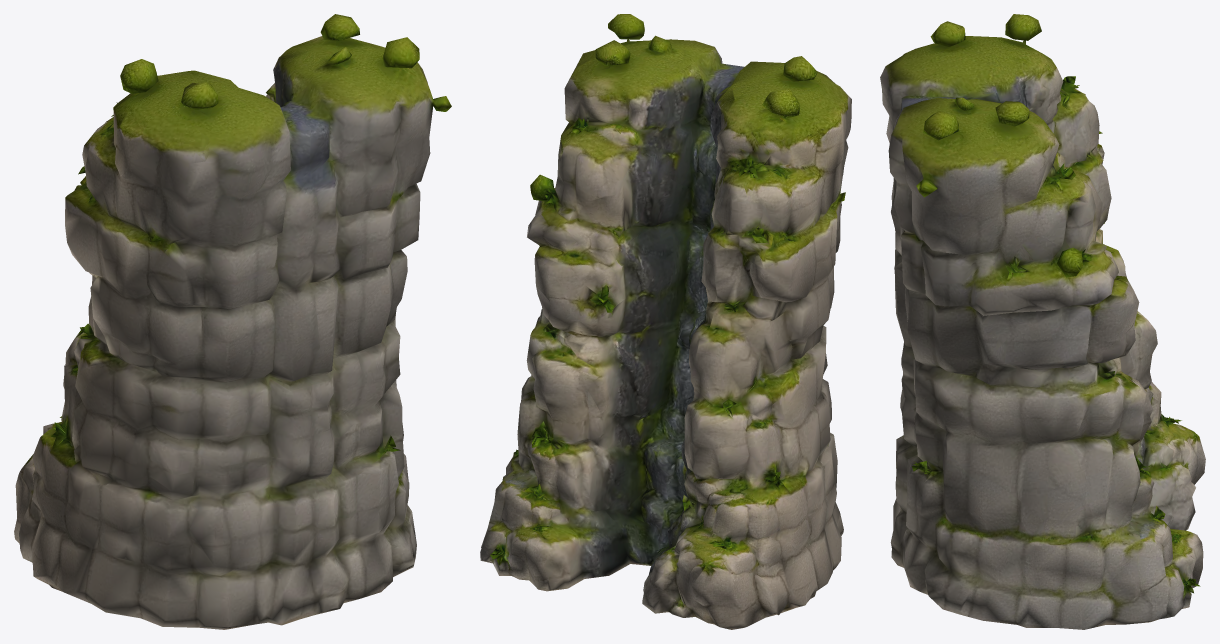
Rendered from env-fallcliff-bay.glb.
The picture shows the model from 3 angles, left to right: view 1: azimuth 30°, elevation 25°; view 2: azimuth 150°, elevation 25°; view 3: azimuth 270°, elevation 25°; orthographic projection. The views are drawn at different scales.
Visible parts, largest first — view 1: tripo_node_852fac60-b787-4b39-ade6-e172a4421142; view 2: tripo_node_852fac60-b787-4b39-ade6-e172a4421142; view 3: tripo_node_852fac60-b787-4b39-ade6-e172a4421142.
Boxes of the visible parts, x1,y1,x2,y2 form: tripo_node_852fac60-b787-4b39-ade6-e172a4421142: [14, 14, 451, 629]; tripo_node_852fac60-b787-4b39-ade6-e172a4421142: [480, 14, 851, 629]; tripo_node_852fac60-b787-4b39-ade6-e172a4421142: [880, 14, 1205, 629].
Size of the model in its own units: 0.6776 by 0.9983 by 0.5987.
Materials: 1 (1 with a texture image).
